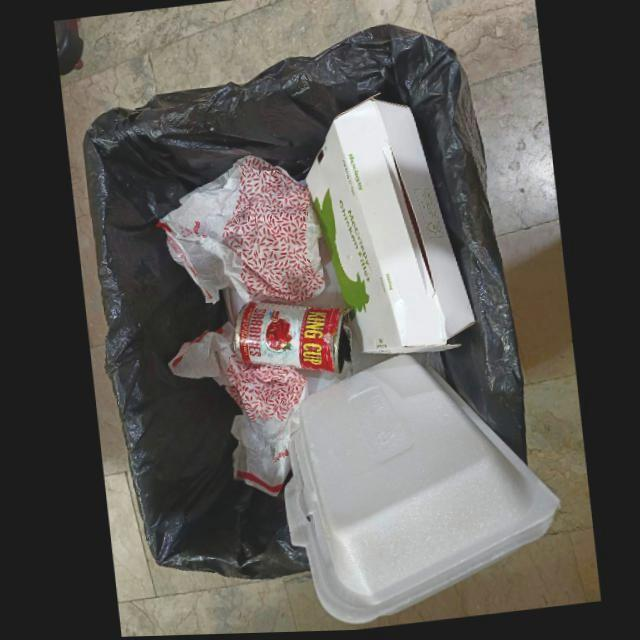aluminum: (234, 302, 351, 377)
cardboard: (304, 98, 474, 355)
paper: (154, 156, 326, 305), (166, 321, 305, 497)
